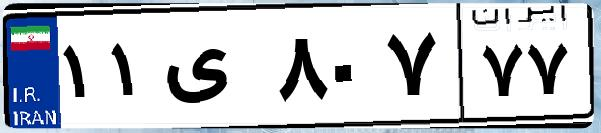0: (330, 28, 385, 110)
1: (57, 26, 110, 100), (110, 28, 158, 98)
7: (385, 28, 445, 110), (475, 38, 525, 113), (525, 38, 570, 115)
8: (270, 28, 330, 110)
ی: (158, 20, 270, 120)
